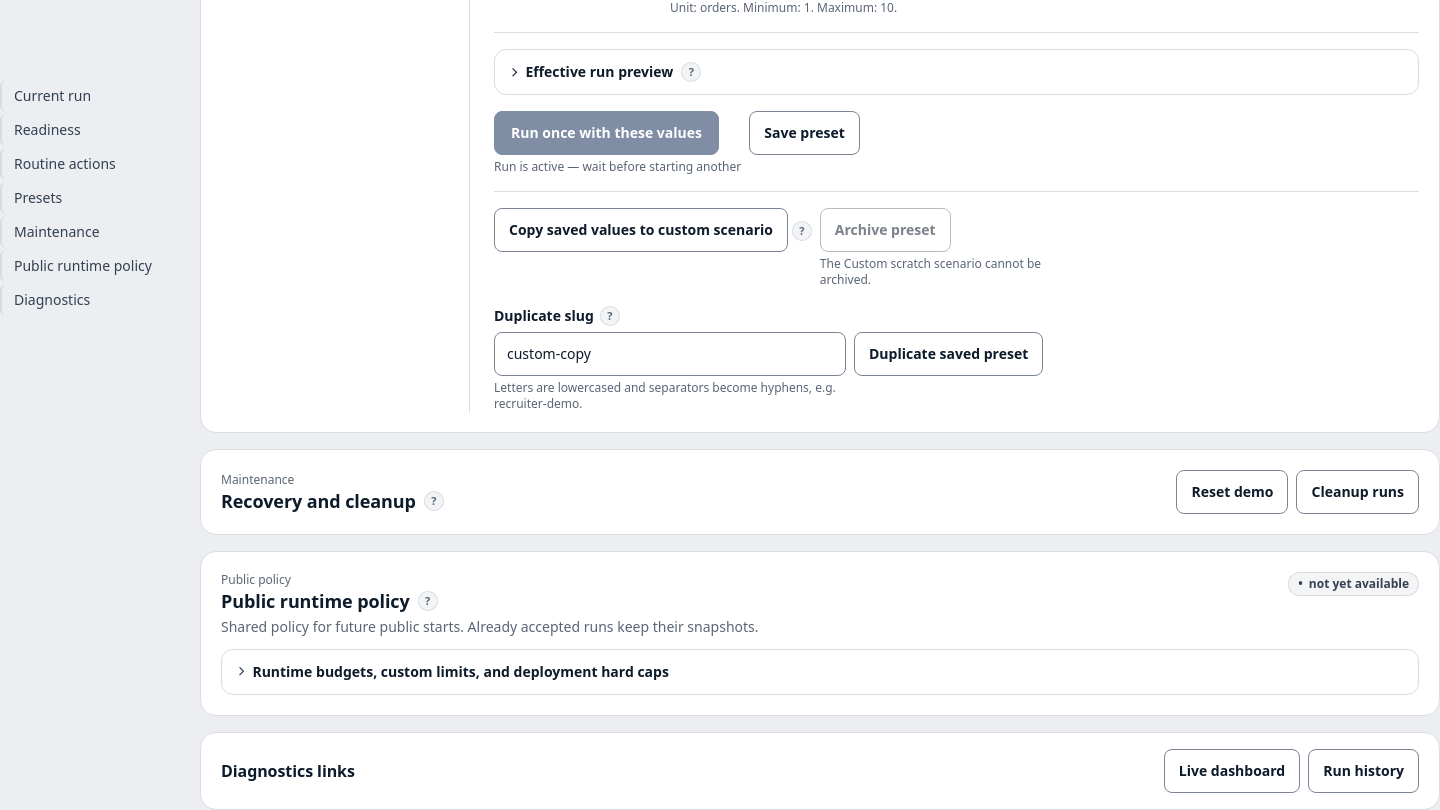
it: admin feature controllers › reconciles recovery even when the reset response is lost
(page scrolled)
Click the button "Reset demo": (1232, 492) [1176,470,1288,514]
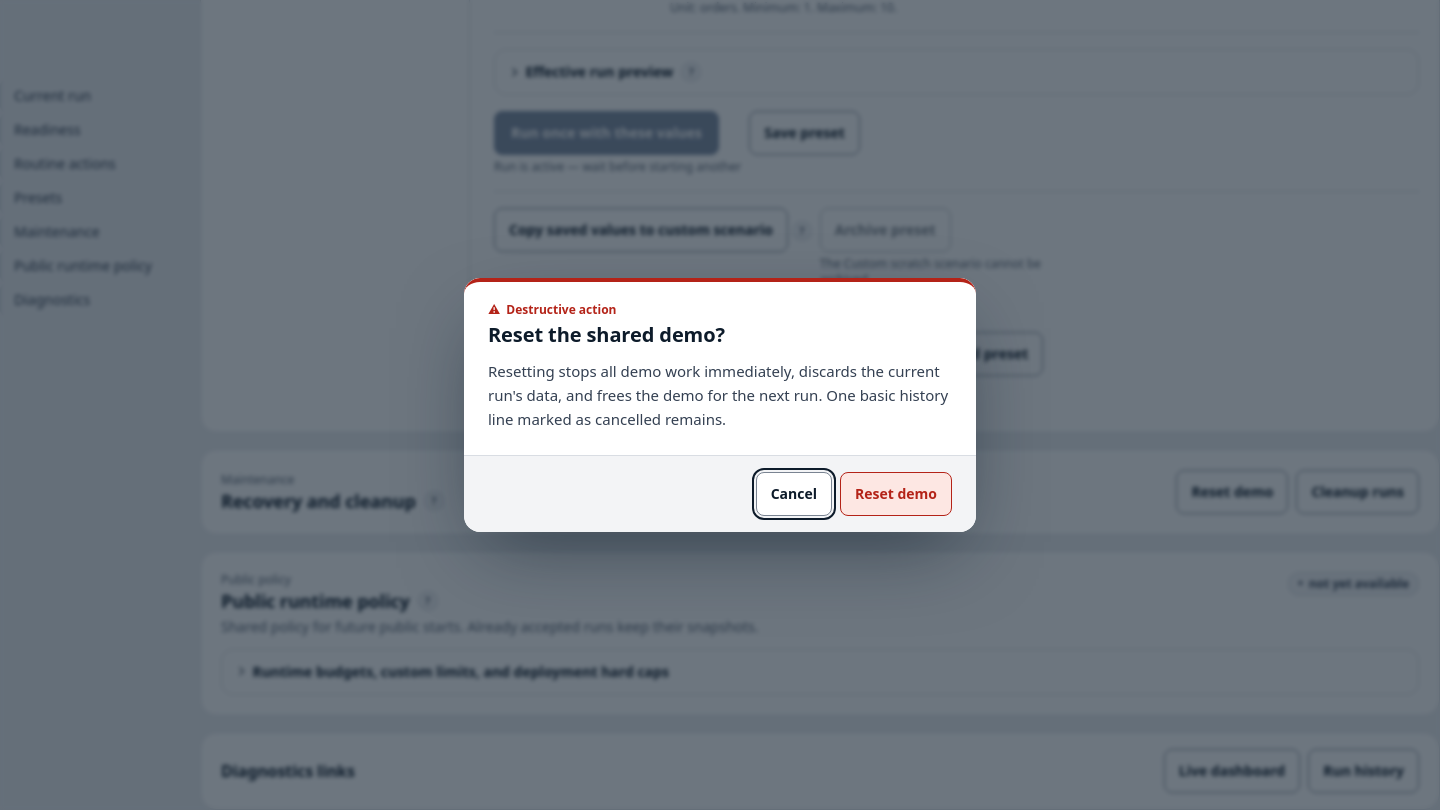
Click the button "Reset demo": (896, 494) [840,472,952,516]
(page scrolled)
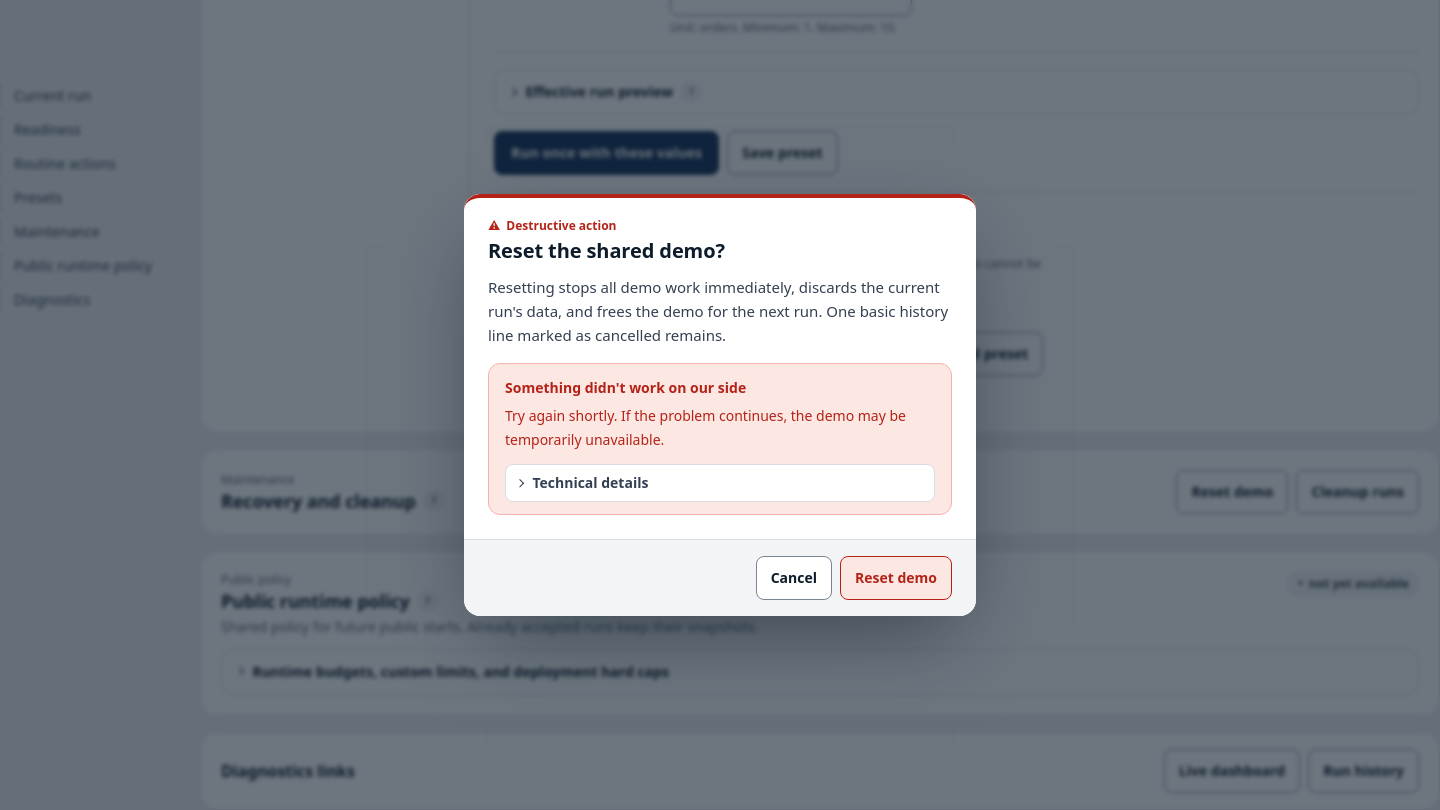
Expected: the button "Run once with these values" is enabled, [494,131,719,175]
Expected: the text "Something didn't work on our side" is shown, [505,378,746,397]
